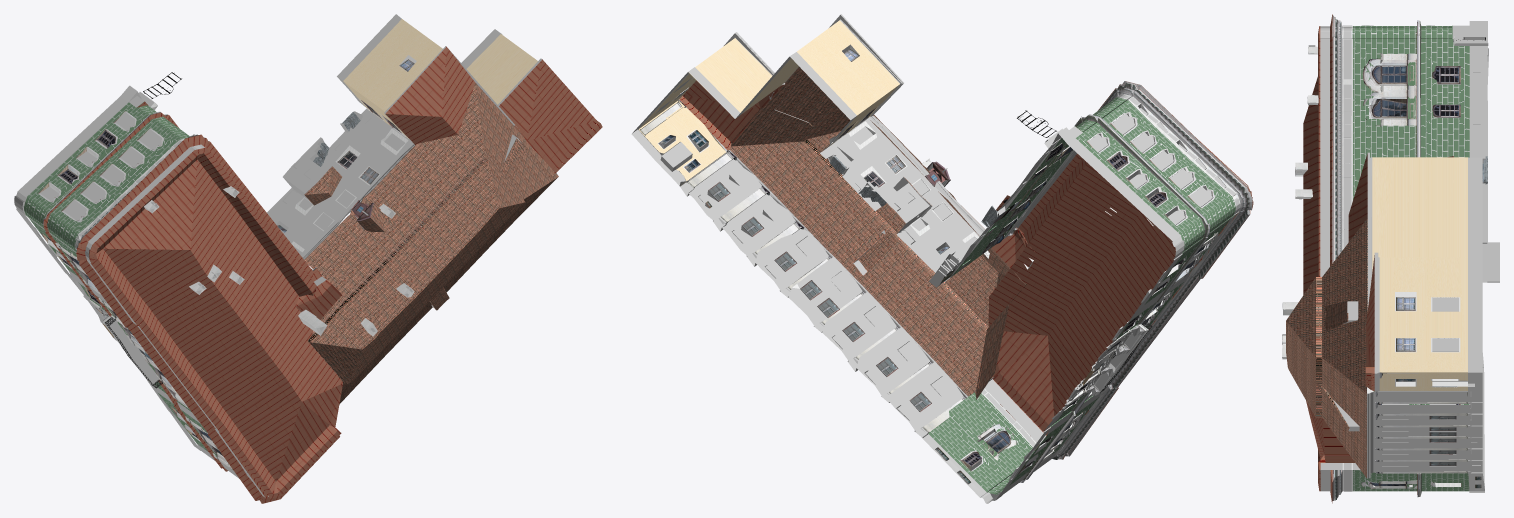
Rendered from Kohtu-1-origo.obj.
The picture shows the model from 3 angles, left to right: view 1: azimuth 30°, elevation 25°; view 2: azimuth 150°, elevation 25°; view 3: azimuth 270°, elevation 25°; orthographic projection. The views are drawn at different scales.
Parts seen in each view (by area): view 1: Kohtu_1; view 2: Kohtu_1; view 3: Kohtu_1.
Part boxes in pixels (x1=…): Kohtu_1: x1=14, y1=14, x2=602, y2=503; Kohtu_1: x1=631, y1=14, x2=1253, y2=503; Kohtu_1: x1=1282, y1=14, x2=1499, y2=503.
Size of the model in its own units: 65.06 by 45.5 by 19.88.
